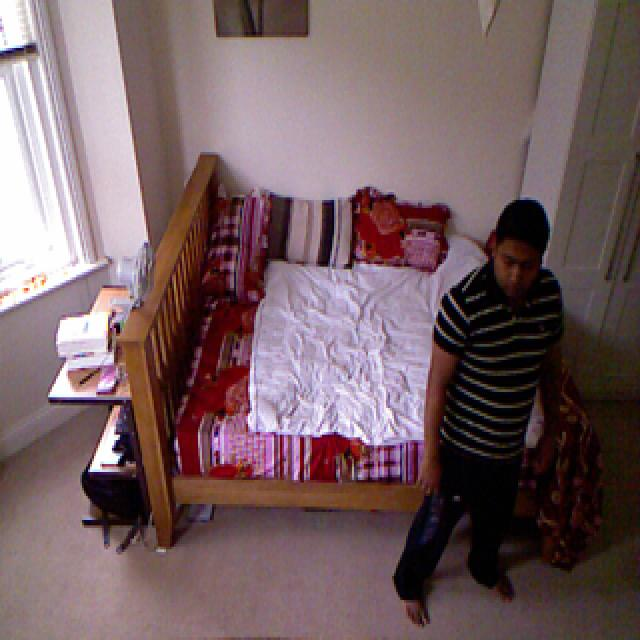standing: (398, 196, 570, 617)
